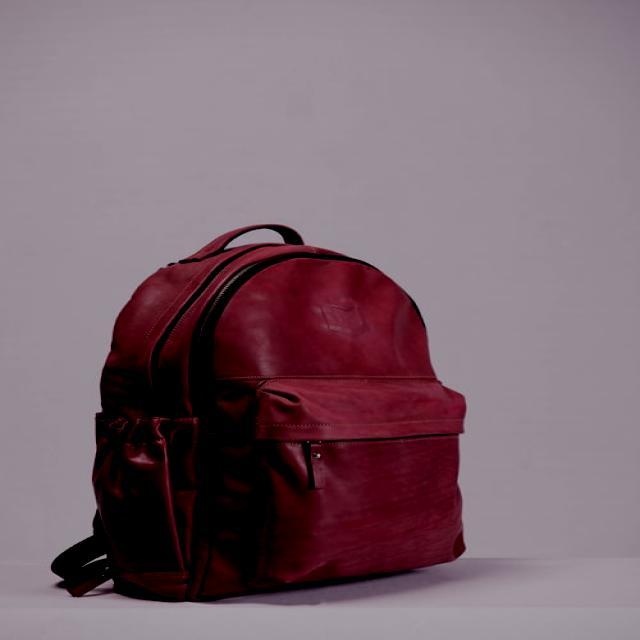backpack: (52, 224, 468, 604)
